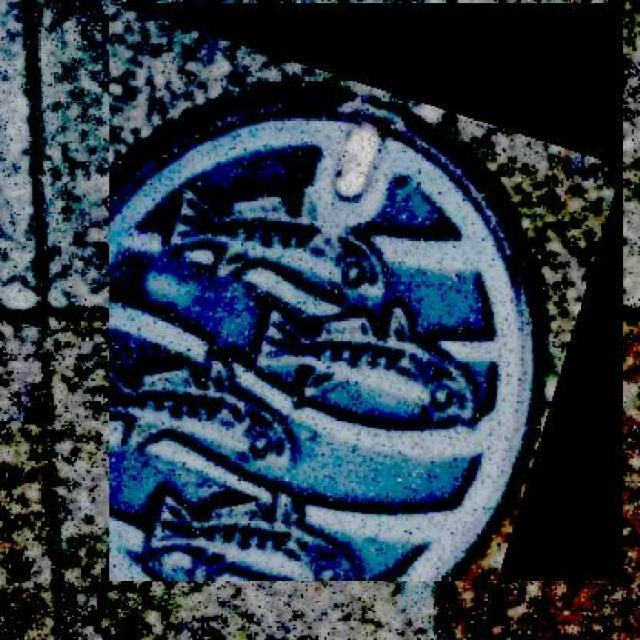Manhole: (110, 3, 624, 580)
